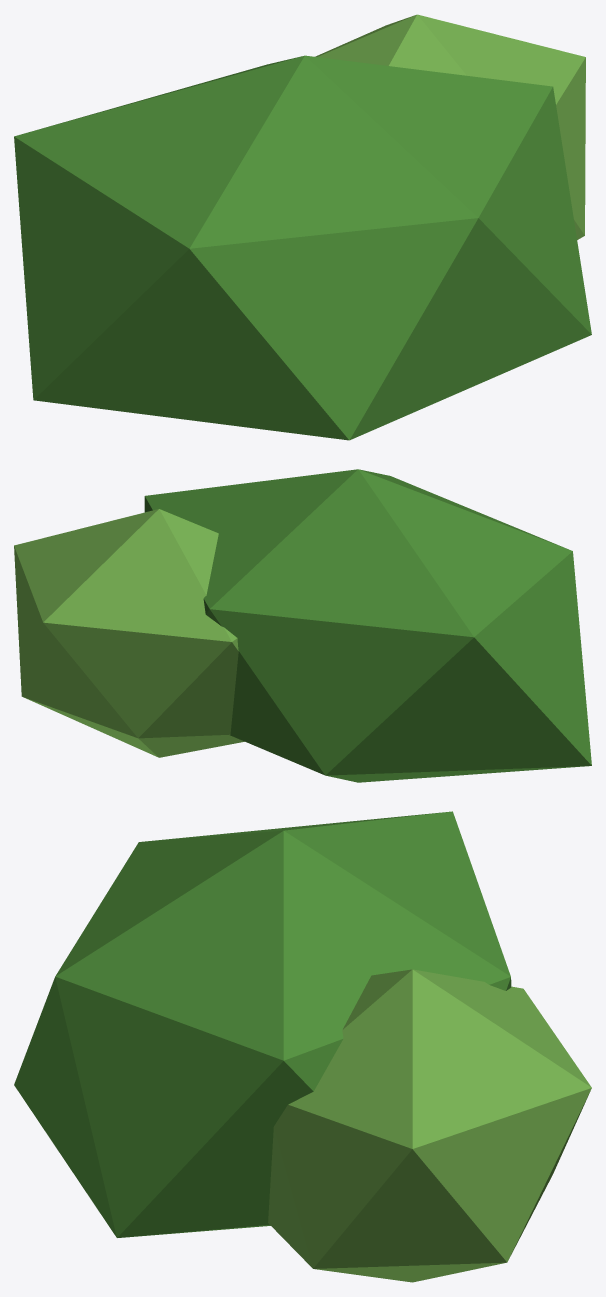
File: bush.glb
3 views of the same model, one above another, from view 1: azimuth 30°, elevation 25°; view 2: azimuth 150°, elevation 25°; view 3: azimuth 270°, elevation 25° (orthographic). The views are drawn at different scales.
Visible parts, largest first — view 1: bush; view 2: bush; view 3: bush.
Part boxes in pixels (bbox=[...]): bush: bbox=[14, 14, 591, 440]; bush: bbox=[14, 469, 591, 782]; bush: bbox=[14, 811, 591, 1282].
Bounding box in the file's own units: 1.78 × 1.01 × 1.35.
